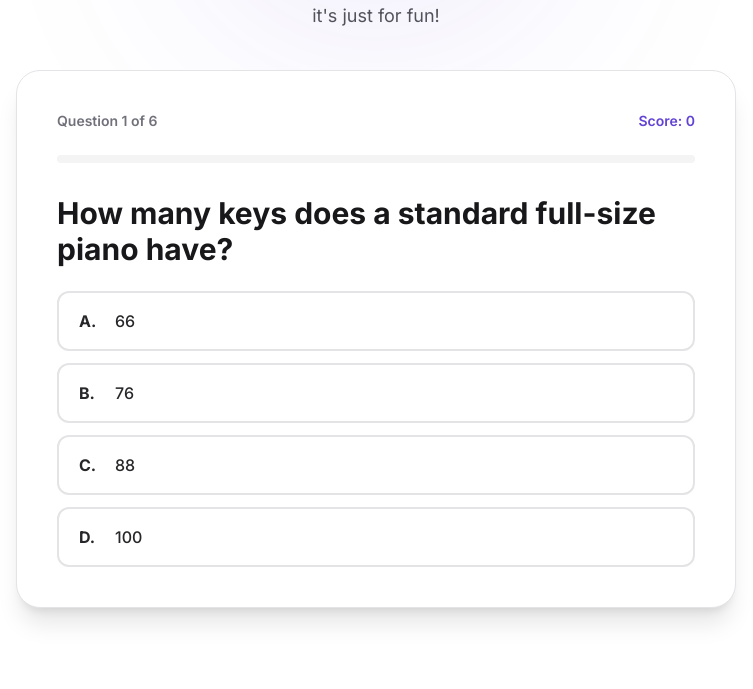
it: Volz Method page — Piano Quiz › shows answer feedback after picking an option
(page scrolled)
Click the button "C. 88".
click(85, 465)  # box [57,435,695,495]
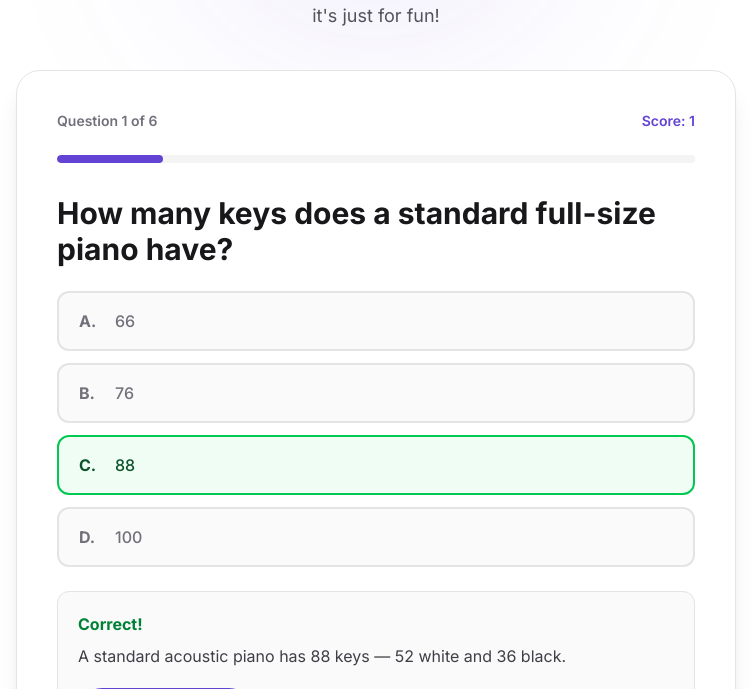
Now the text "Correct!" is shown, box [78,614,143,634]
Now the text "88 keys" is shown, box [78,646,566,666]
